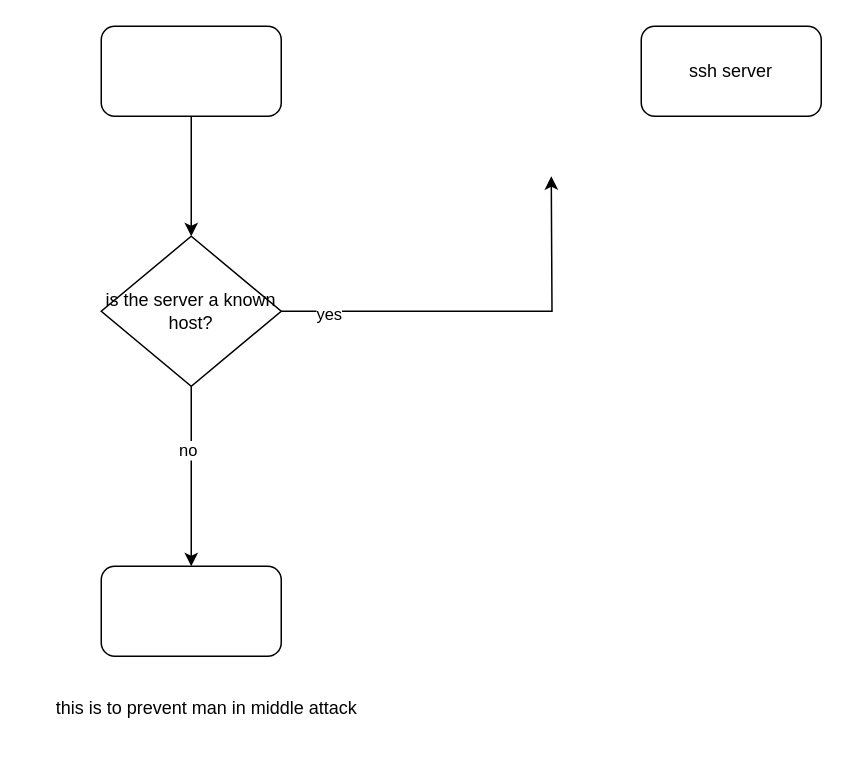
The diagram is 848 pixels wide and 758 high, and some of its shapes have lost their labels. Each missing label, with the centre of its shape:
"ssh client" goes at [190,70].
"verify server's public key fingerprint" goes at [190,610].
